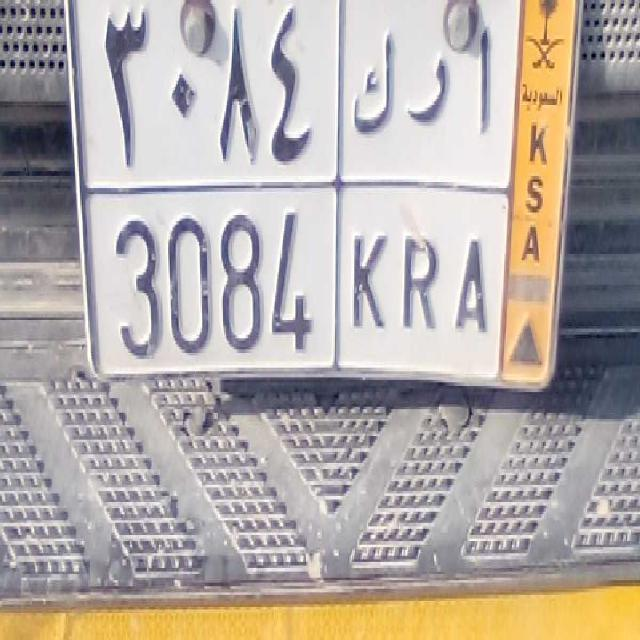license_plate: (101, 179, 498, 395)
